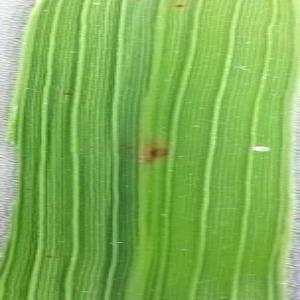0 BrownSpot: (141, 141, 171, 165), (58, 86, 77, 99), (42, 251, 58, 262), (172, 1, 188, 11), (115, 139, 127, 149), (126, 144, 136, 153)
